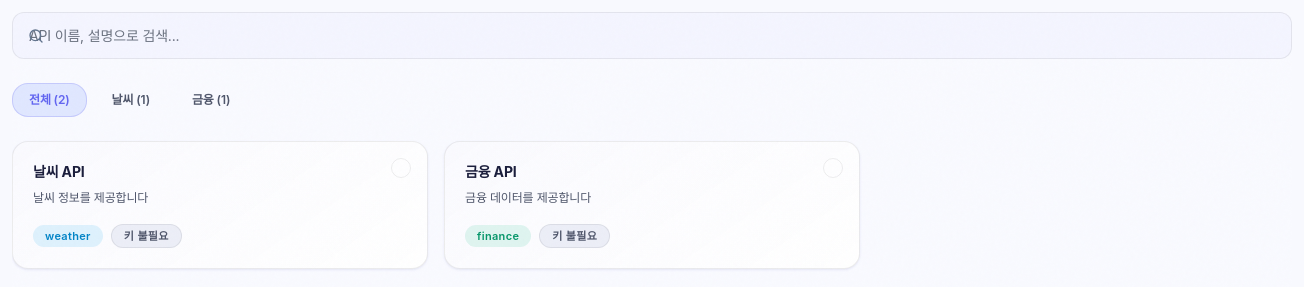
Test case: CatalogView › "전체" 탭 클릭 시 모든 API가 다시 표시된다
Click the button "날씨 (1)": [131, 100] box [95, 83, 167, 117]
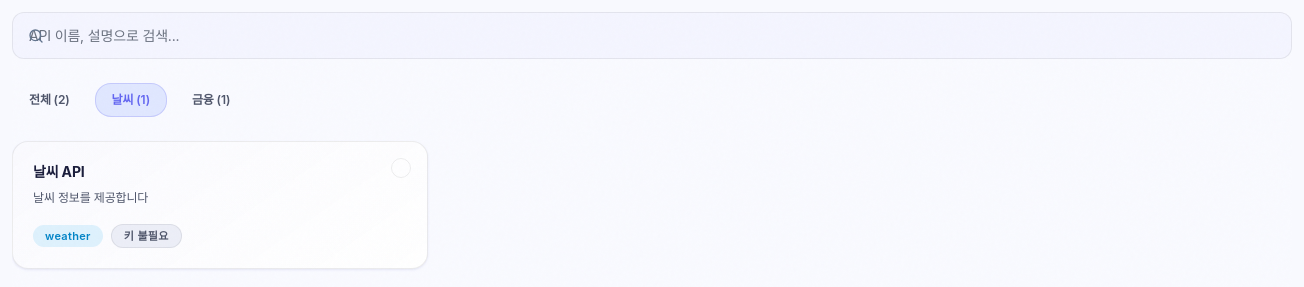
Click the button "전체 (2)": [49, 100] box [12, 83, 87, 117]
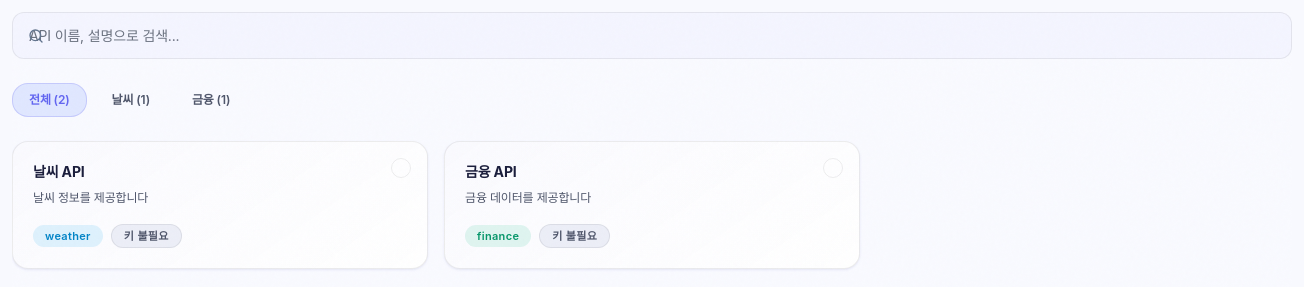
Expected: the heading "날씨 API" is shown, [33, 163, 85, 180]
Now the heading "금융 API" is shown, box [465, 163, 517, 180]
